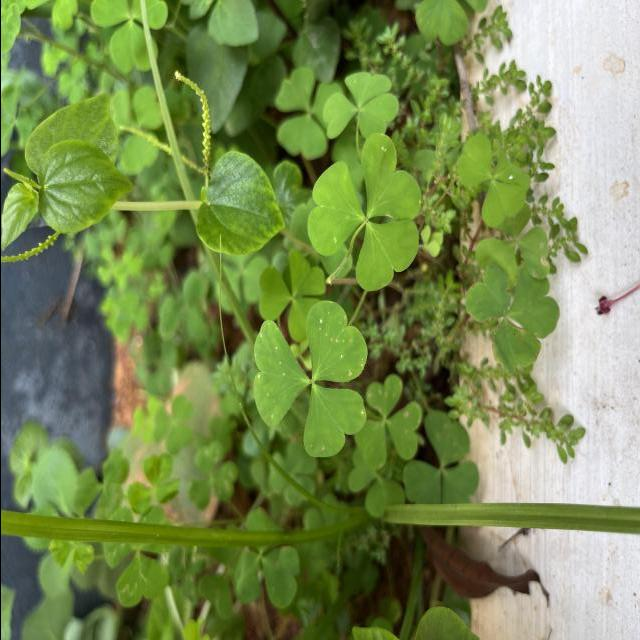Oxalis corniculata: (305, 132, 422, 292), (252, 298, 368, 458), (464, 261, 560, 377), (455, 134, 530, 228), (321, 71, 399, 141)
